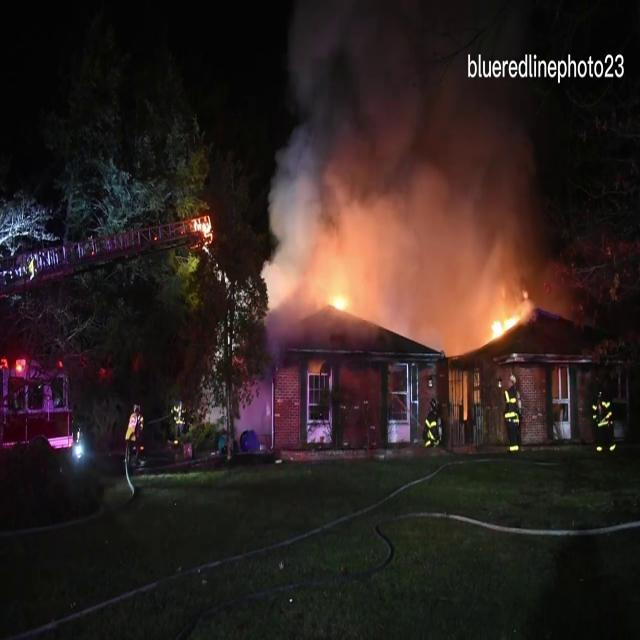Fire: (266, 271, 385, 329), (479, 289, 534, 348)
Smoke: (256, 0, 570, 302)
